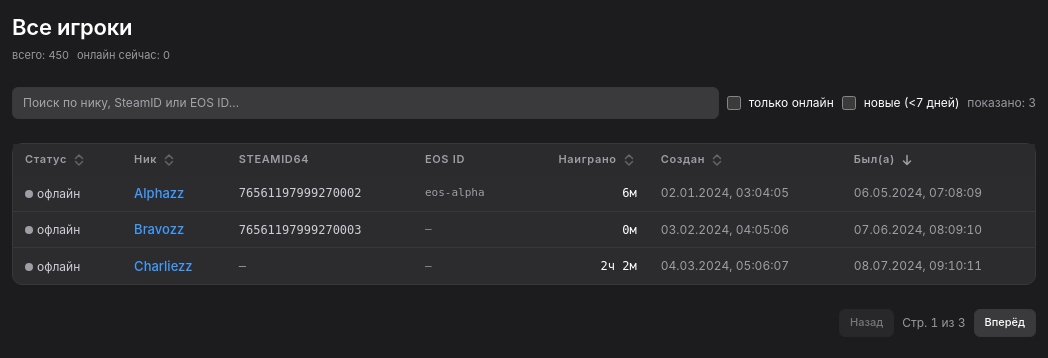
Test: PlayersPage › shows the server total and pages through players beyond the first 200
Check: the link "Alphazz" is shown, box [134,184,184,203]
Check: the text "всего: 450" is shown, box [12,48,69,63]
What coordinates should you click on to do the following:
click the button "Вперёд"
I would click on:
 (1005, 323)
Its box is [974,309,1036,337].
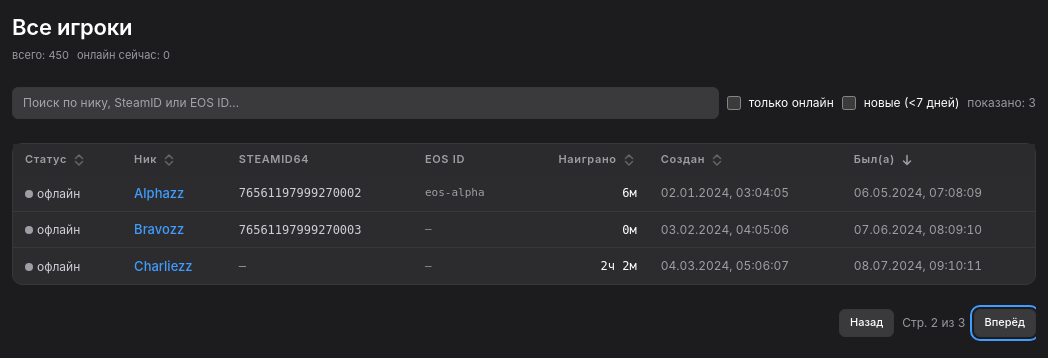
Check: the text "Стр. 2 из 3" is shown, box [902,315,966,331]
